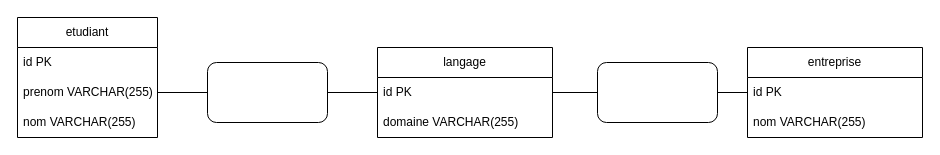
The diagram is 940 pixels wide and 155 high, and some of its shapes have lost their labels. Here are the shapes that lost their labels. From the top down, the centre of each, then its label:
At point 267,92: "maitriser".
At point 657,92: "au sein de".
